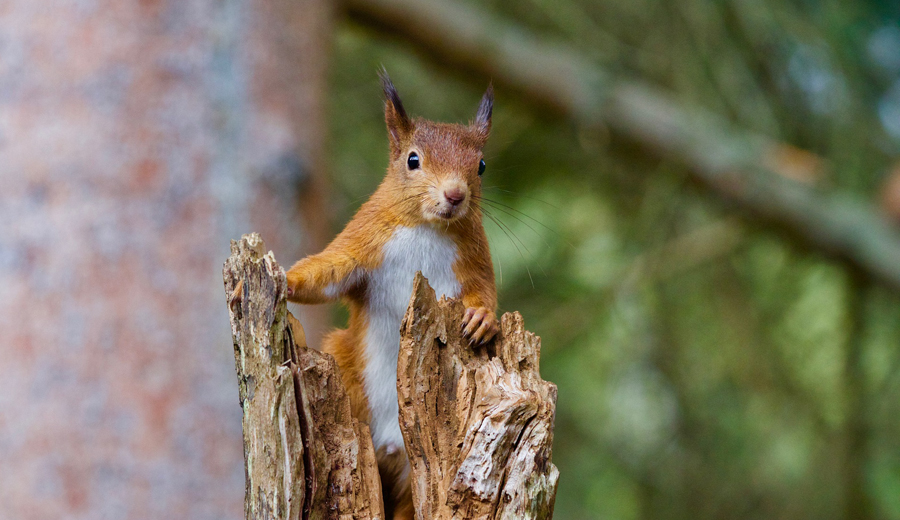Ardilla: (255, 59, 511, 461)
